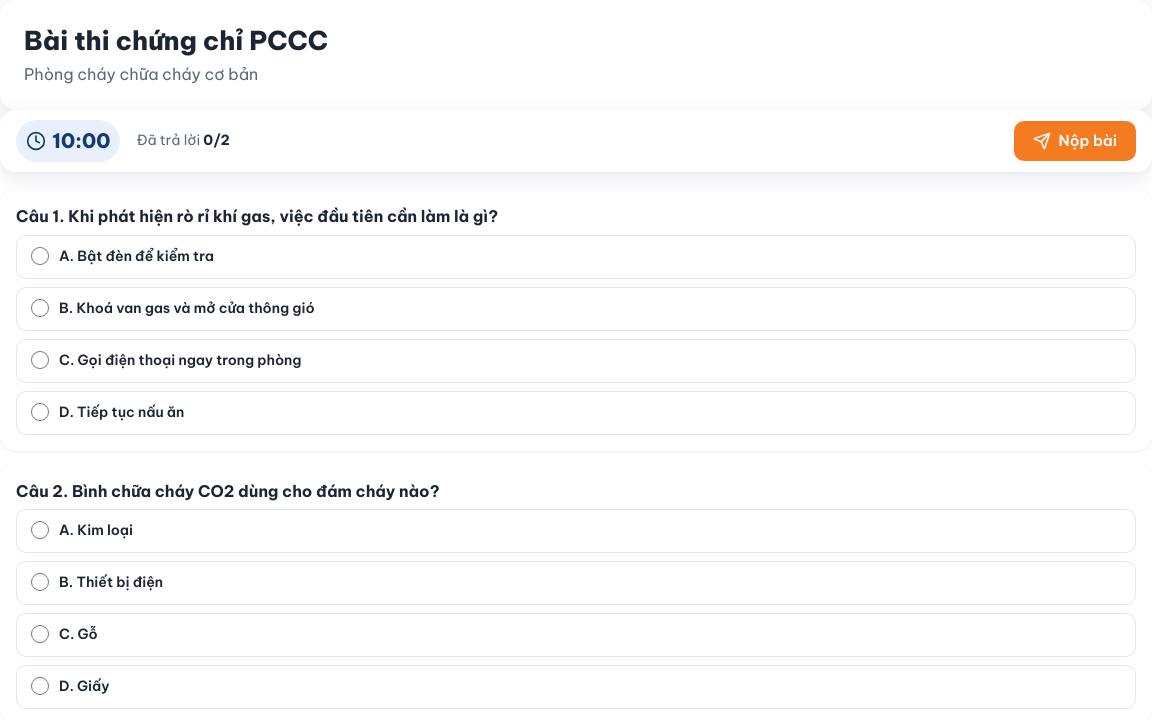
ExamPage (làm bài thi chứng chỉ) › submits the chosen answers and shows the score
The width and height of the screenshot is (1152, 720).
Expected: the element showing "10:00" is shown, [16,120,120,162]
Click the radio button labelled "B. Khoá van gas và mở cửa thông gió". click: (40, 308)
box: [31,299,49,317]
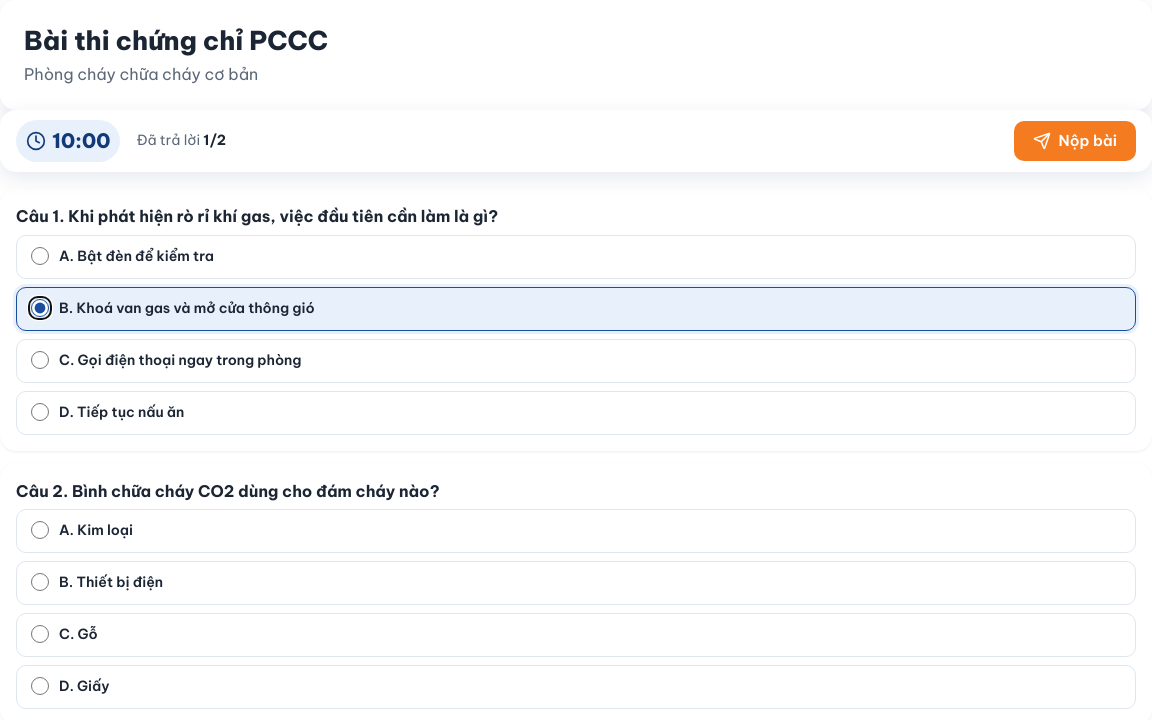
Now the text "1/2" is shown, box [203,131,226,149]
Click the button "Nộp bài". click: (1075, 141)
box: [1014,121,1136,161]
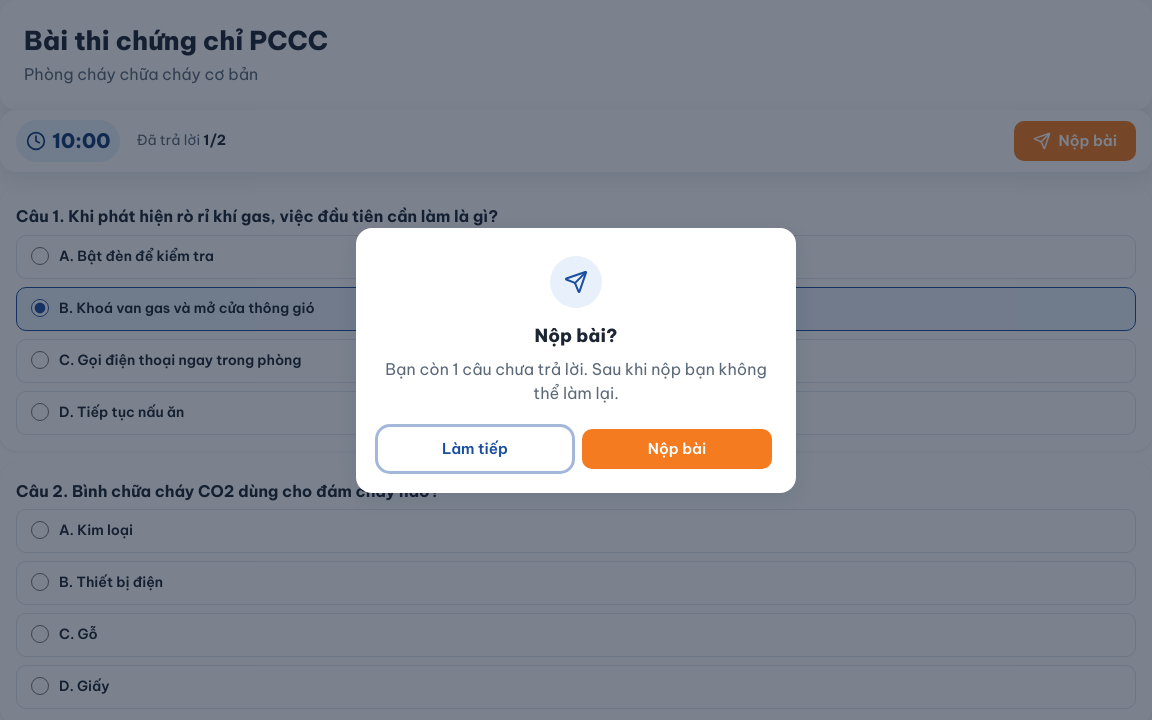
Now the dialog "Nộp bài?" shows "Bạn còn 1 câu chưa trả lời", box [385,358,767,402]
Click the button "Nộp bài". click: (677, 448)
box: [582,428,772,468]
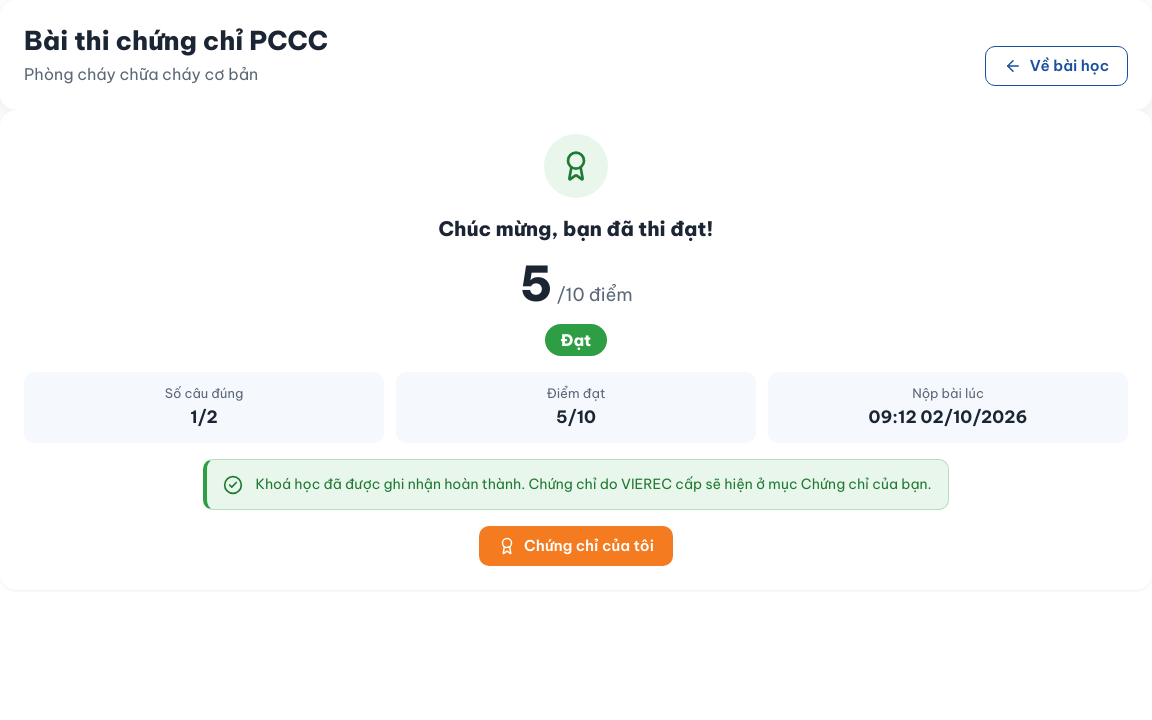
Now the text "1/2" is shown, box [190,406,218,428]
Now the heading "Chúc mừng, bạn đã thi đạt!" is shown, box [438,214,714,244]
Now the text "Đạt" is shown, box [545,324,607,356]
